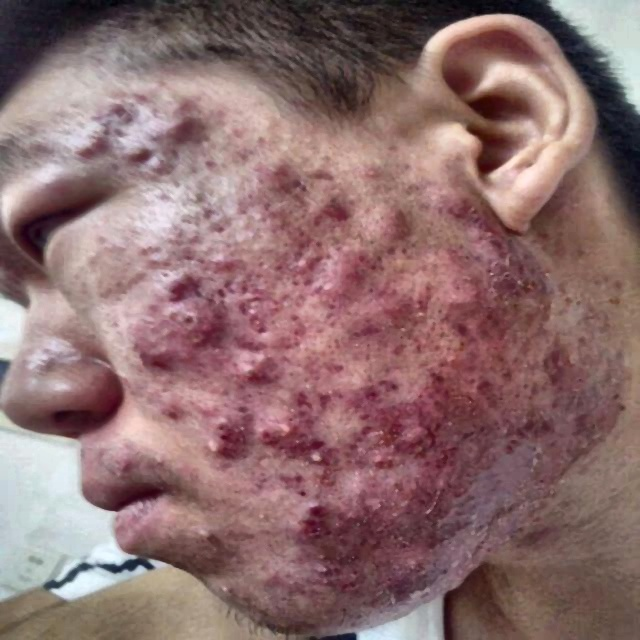nodule: (288, 494, 350, 536), (386, 560, 436, 606), (180, 522, 246, 556), (150, 266, 209, 303), (156, 114, 214, 147), (70, 130, 124, 164), (366, 208, 419, 240), (88, 90, 142, 121), (331, 315, 376, 351), (108, 136, 154, 170), (186, 434, 230, 466), (434, 185, 471, 222), (307, 560, 346, 595), (270, 414, 312, 446), (397, 418, 434, 454), (230, 354, 270, 387), (118, 82, 161, 112), (439, 284, 482, 314), (524, 444, 561, 478), (197, 577, 244, 603), (237, 296, 278, 324), (302, 160, 343, 188), (211, 245, 243, 280), (132, 345, 176, 370), (277, 243, 310, 276), (246, 327, 280, 359), (203, 411, 246, 436), (314, 247, 360, 270), (354, 377, 402, 399), (405, 285, 435, 319), (254, 162, 299, 184), (104, 455, 148, 477), (484, 328, 518, 356), (284, 385, 316, 414), (312, 278, 349, 303), (164, 95, 206, 116), (312, 382, 342, 411), (309, 467, 343, 491), (376, 287, 403, 317), (566, 412, 598, 437), (498, 425, 530, 450), (366, 438, 388, 474), (179, 306, 205, 336), (309, 196, 349, 215), (199, 316, 237, 336), (532, 334, 560, 361), (282, 576, 314, 598), (182, 329, 208, 356), (258, 564, 288, 587), (554, 364, 579, 391), (527, 411, 554, 436), (276, 467, 309, 487), (438, 350, 469, 370), (156, 392, 184, 414), (358, 160, 385, 182), (154, 306, 181, 326), (309, 449, 339, 466), (445, 574, 471, 593)
